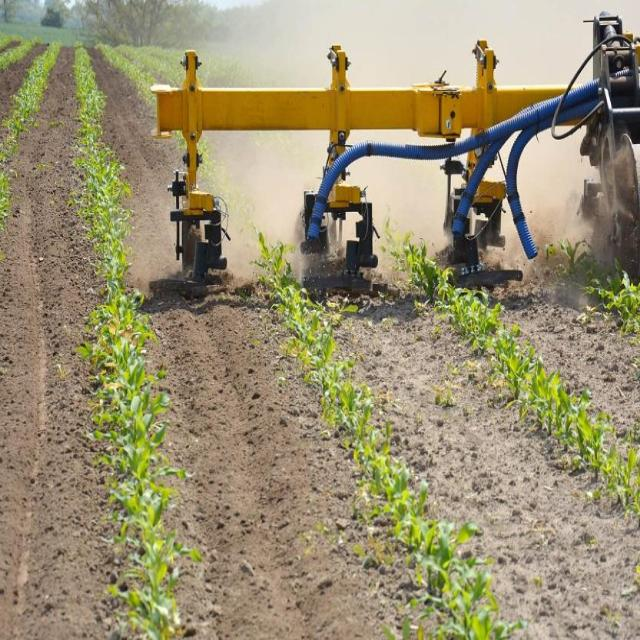row: (122, 51, 640, 640), (88, 45, 425, 640), (0, 43, 133, 640), (462, 264, 640, 446), (0, 43, 51, 150), (0, 41, 23, 60)
